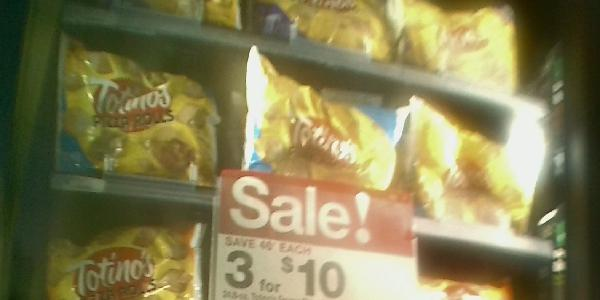icecream: (239, 47, 416, 213), (50, 26, 222, 191), (407, 88, 556, 238)
